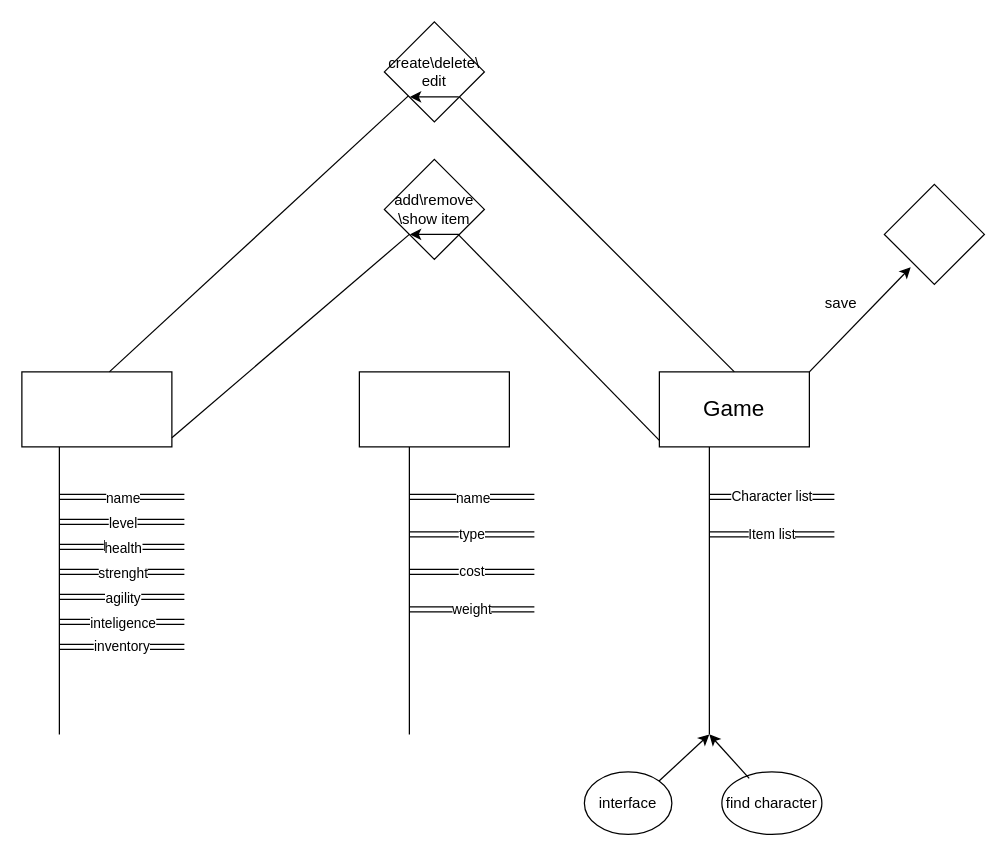
The diagram is 1006 pixels wide and 856 high, and some of its shapes have lost their labels. Here are the shapes that lost their labels. From the top down, the centre of each, then its label:
[933,233]: XML
[96,409]: Character
[433,409]: Item
